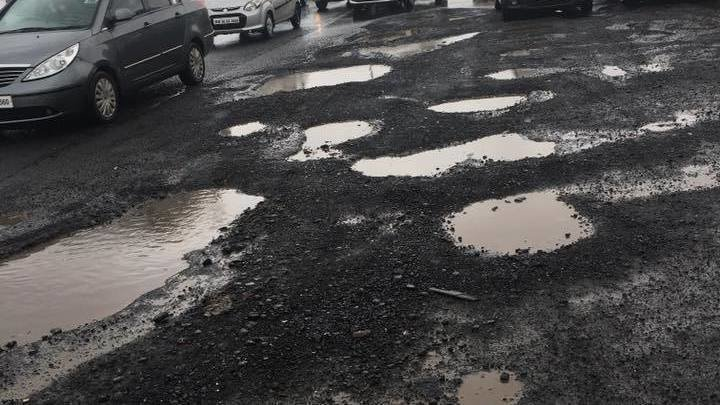potholeGroup: (229, 29, 648, 298)
